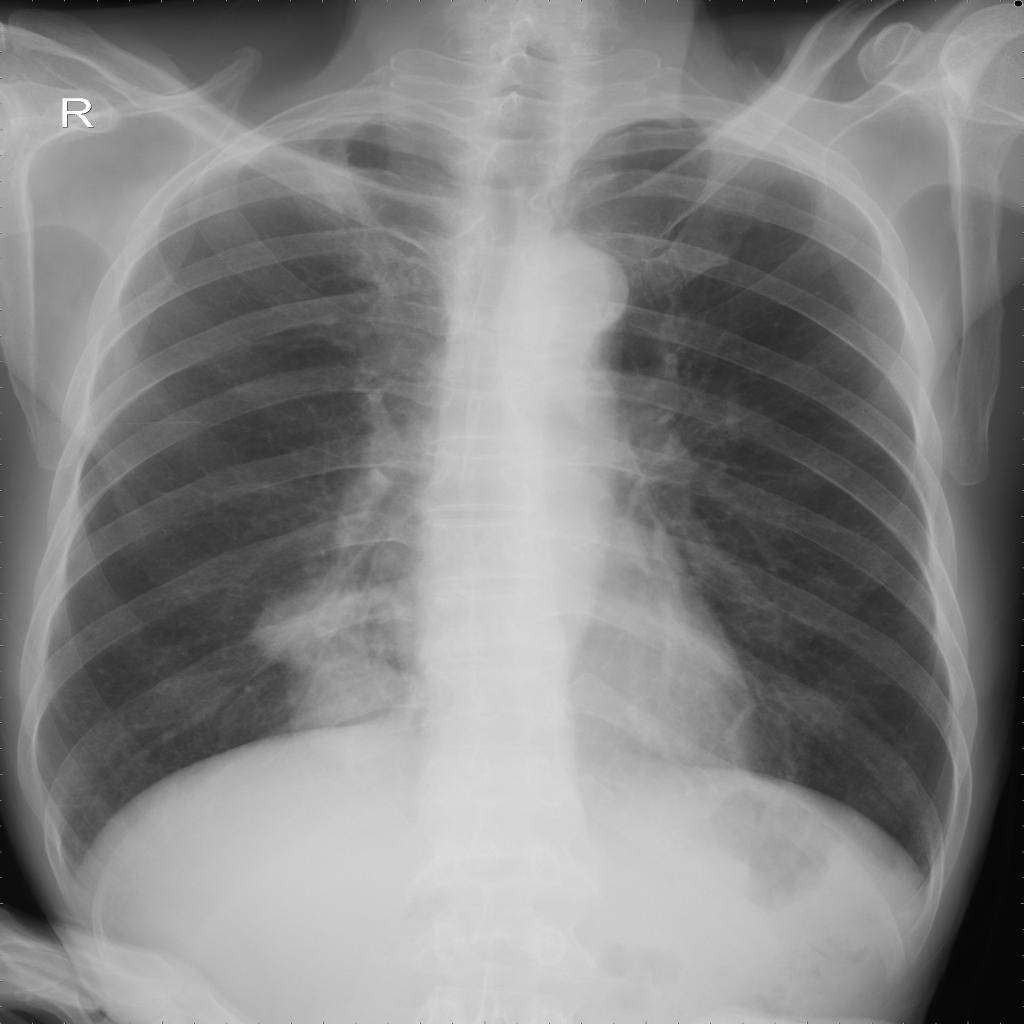Nodule: (255, 588, 397, 671), (303, 653, 408, 742)
